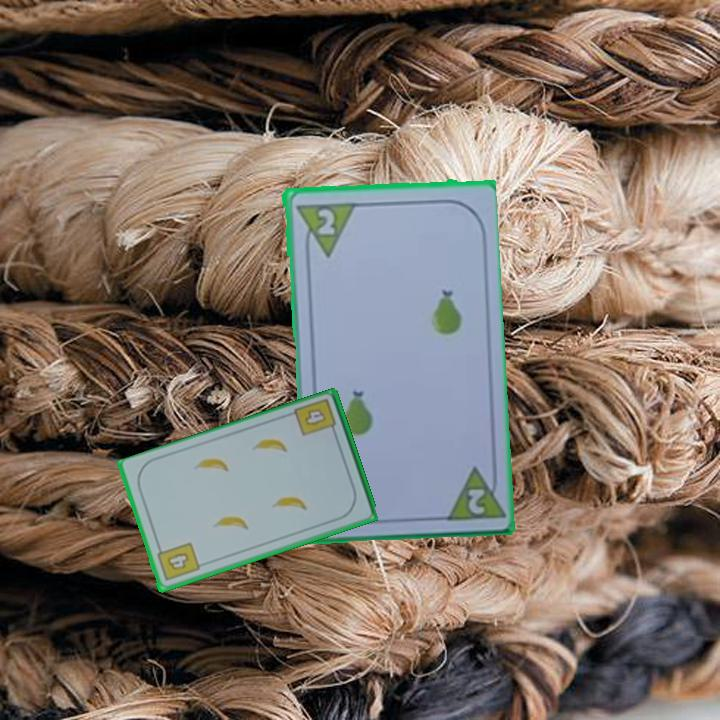2p: (440, 460, 505, 523), (291, 198, 356, 260)
4b: (153, 539, 202, 584), (291, 395, 340, 439)
